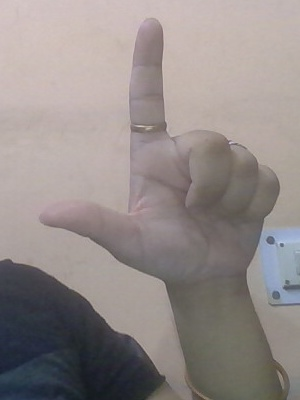L: (33, 11, 284, 296)
